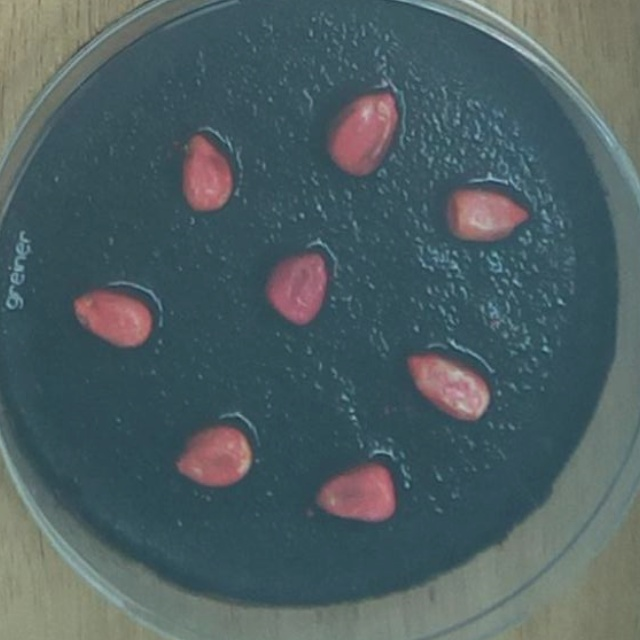Zea mays: (317, 83, 407, 185), (396, 345, 499, 431), (166, 414, 262, 497), (62, 278, 161, 356), (306, 454, 404, 532), (437, 178, 536, 251), (256, 243, 334, 334), (174, 127, 239, 223)
